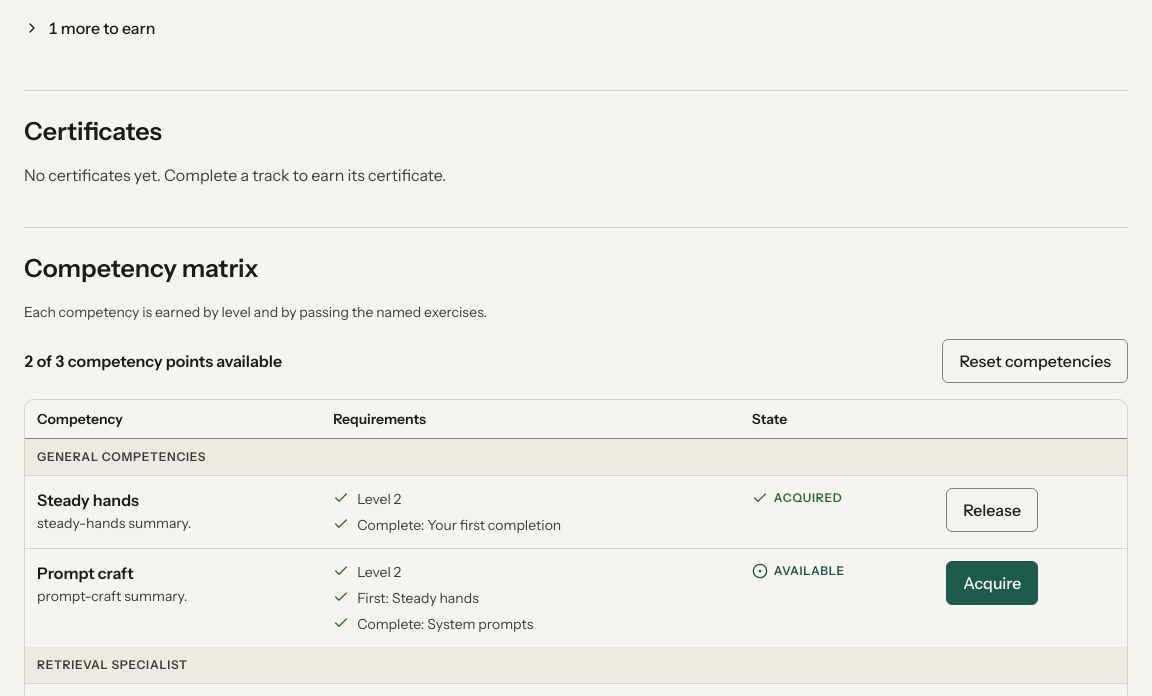
Test case: profile page › respecs after a confirm step and shows the refreshed tree
(page scrolled)
What coordinates should you click on to do the following:
click the button "Reset competencies"
I would click on:
 (1035, 361)
Its box is 942,339 -> 1128,383.
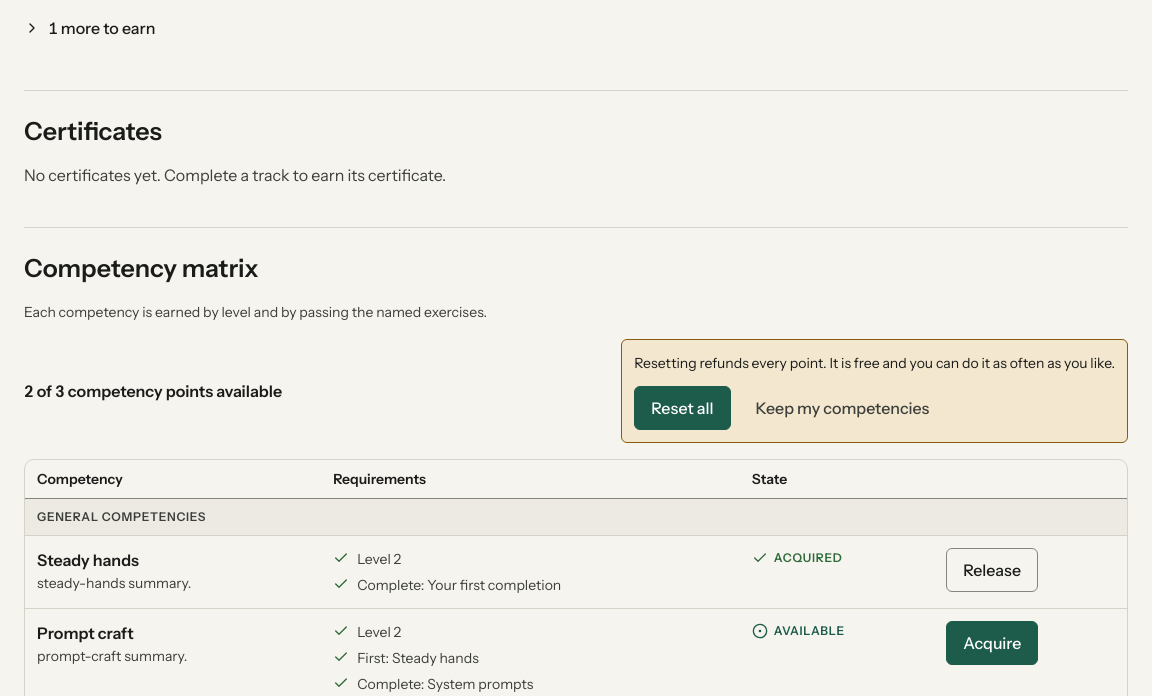
What coordinates should you click on to do the following:
click the button "Reset all"
I would click on:
 (682, 408)
Its box is 634,386 -> 731,430.
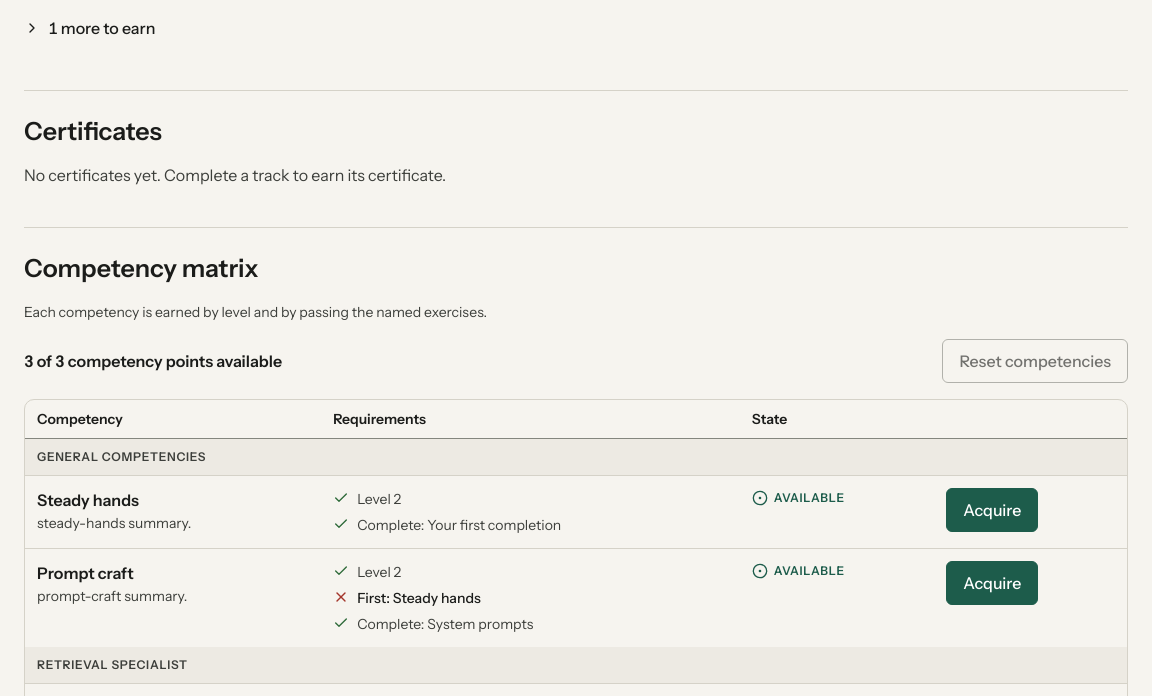
Expected: the text "3 of 3 competency points available" is shown, 24,349 -> 282,373
